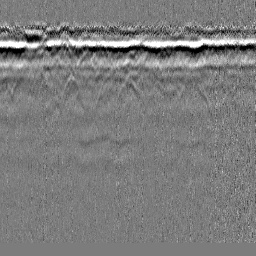cavity: (117, 74, 141, 100)
